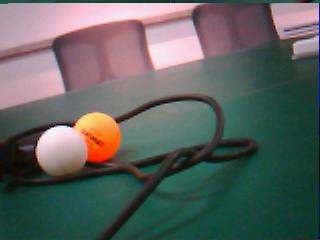oball: (75, 111, 121, 162)
